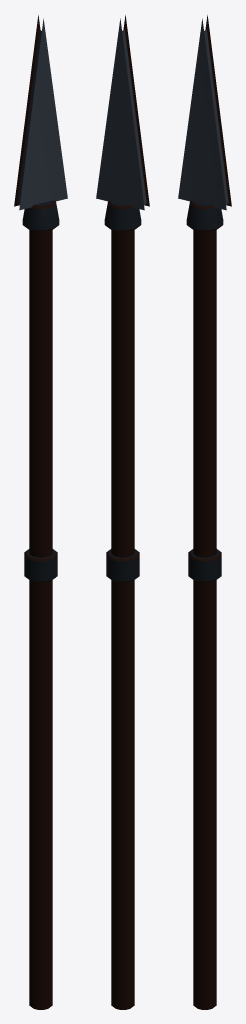
Rendered from Arma_LancaRecruta.fbx.
The picture shows the model from 3 angles, left to right: view 1: azimuth 30°, elevation 25°; view 2: azimuth 150°, elevation 25°; view 3: azimuth 330°, elevation 25°; orthographic projection.
Parts seen in each view (by area): view 1: Piece; view 2: Piece; view 3: Piece.
Part boxes in pixels (<box>): Piece: <box>14,15,67,1009</box>; Piece: <box>96,15,149,1009</box>; Piece: <box>178,15,231,1009</box>.
Bounding box in the file's own units: 0.1303 × 2.53 × 0.0855.
